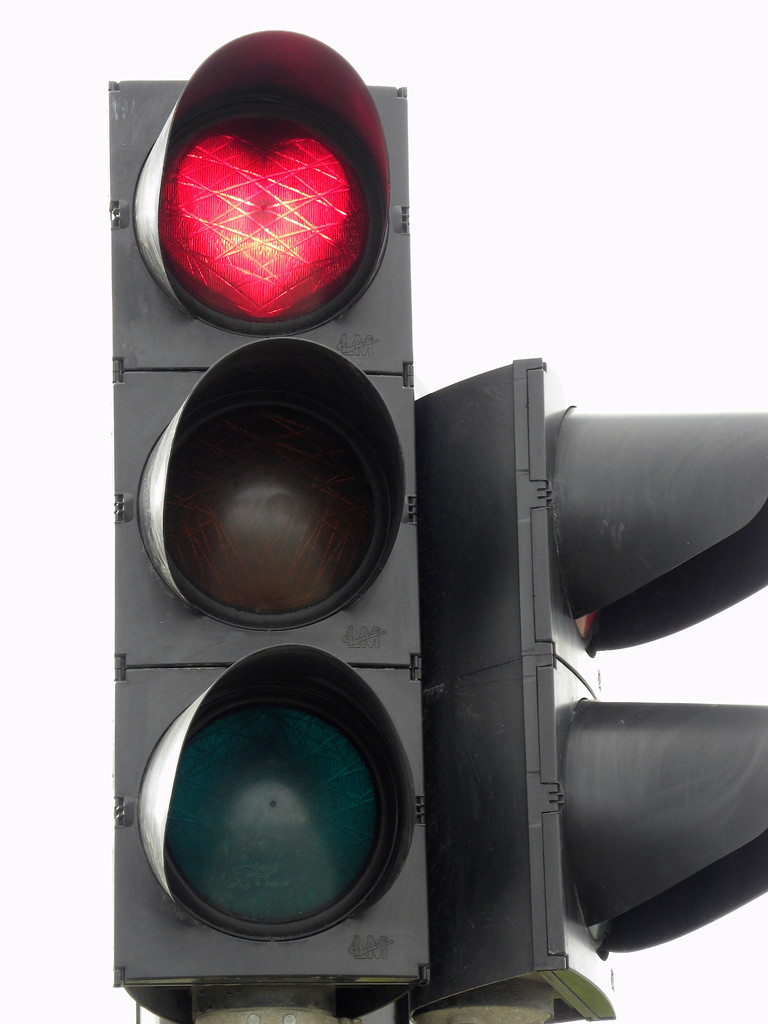red_light: (119, 78, 404, 953)
